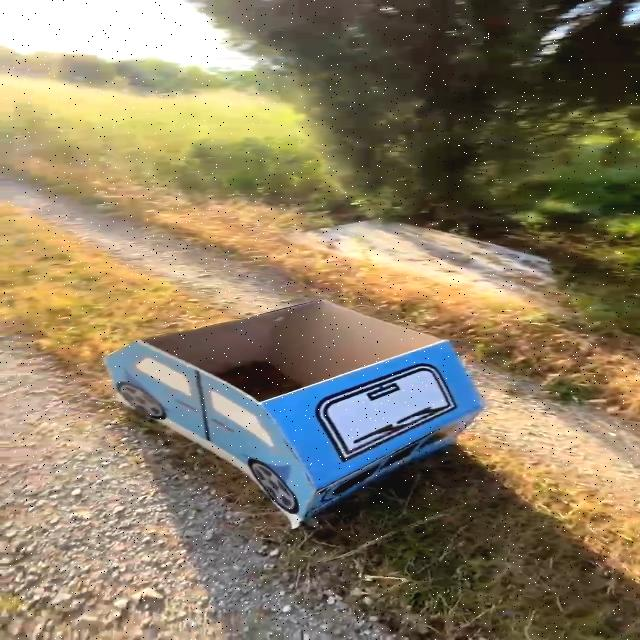blue_car: (82, 288, 534, 562)
